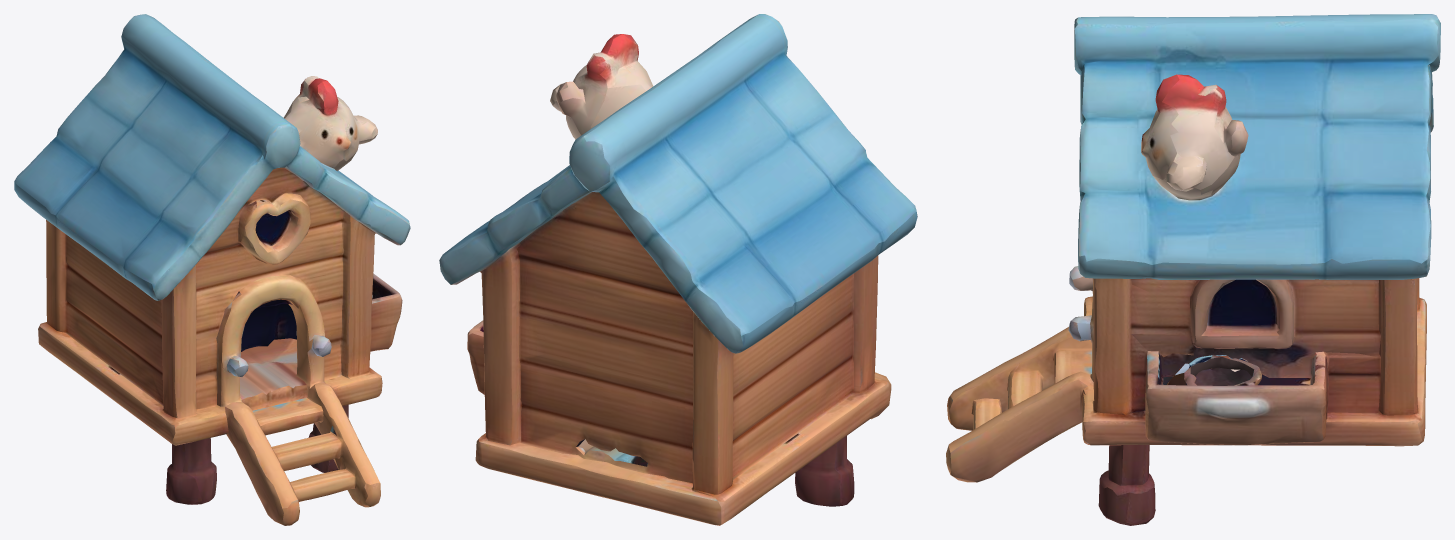
File: coop.glb
3 renders of one model, left to right at view 1: azimuth 30°, elevation 25°; view 2: azimuth 150°, elevation 25°; view 3: azimuth 270°, elevation 25°, orthographic. The views are drawn at different scales.
Parts seen in each view (by area): view 1: coop; view 2: coop; view 3: coop.
Part boxes in pixels (left/top/right/bottom): coop: left=14, top=14, right=410, bottom=525; coop: left=439, top=14, right=917, bottom=525; coop: left=946, top=14, right=1440, bottom=525.
Size of the model in its own units: 0.7935 by 1 by 0.9786.
Materials: 1 (1 with a texture image).
